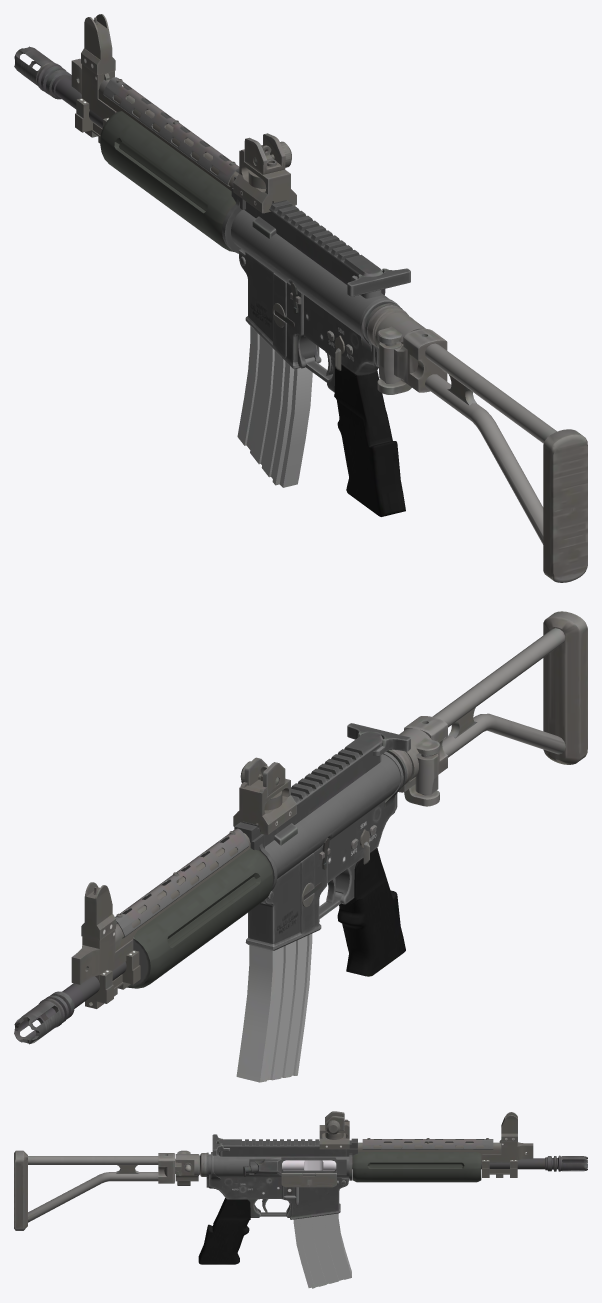
File: gun-lr300.glb
3 renders of one model, top to bottom at view 1: azimuth 30°, elevation 25°; view 2: azimuth 150°, elevation 25°; view 3: azimuth 270°, elevation 25°, orthographic. The views are drawn at different scales.
Visible parts, largest first — view 1: Stock_low, Magazine_low, Handguard_low, Grip_low, Lower_low, Stock_Tubes_low, Upper_low, Upper_Pickatiny_low, Heat_Shield_low, Handguard_Front_Sight_low, Stock_Mount_low, Barrel_low (+5 smaller); view 2: Magazine_low, Handguard_low, Stock_low, Lower_low, Grip_low, Upper_low, Stock_Tubes_low, Upper_Pickatiny_low, Handguard_Front_Sight_low, Heat_Shield_low, Barrel_low, Rear_Sights_low2 (+6 smaller); view 3: Handguard_low, Magazine_low, Lower_low, Stock_Tubes_low, Grip_low, Upper_low, Upper_Pickatiny_low, Stock_low, Heat_Shield_low, Handguard_Front_Sight_low, Barrel_low, Stock_Mount_low (+7 smaller).
Part boxes in pixels (x1,y1,x2,y2): Stock_low: (379,329,587,582); Magazine_low: (237,326,312,487); Handguard_low: (100,111,235,251); Grip_low: (334,364,405,516); Lower_low: (238,249,399,375); Stock_Tubes_low: (425,343,556,544); Upper_low: (231,210,388,335); Upper_Pickatiny_low: (222,176,382,298); Heat_Shield_low: (103,77,239,186); Handguard_Front_Sight_low: (71,14,116,118); Stock_Mount_low: (365,303,425,394); Barrel_low: (14,46,102,128); Magazine_low: (236,934,312,1082); Handguard_low: (127,848,273,988); Stock_low: (404,611,587,794); Lower_low: (245,751,403,950); Grip_low: (337,848,405,976); Upper_low: (264,754,400,878); Stock_Tubes_low: (432,628,565,757); Upper_Pickatiny_low: (234,731,383,890); Handguard_Front_Sight_low: (71,882,133,984); Heat_Shield_low: (115,828,249,938); Barrel_low: (14,962,126,1044); Rear_Sights_low2: (233,778,296,834); Handguard_low: (352,1152,481,1182); Magazine_low: (293,1213,351,1288); Lower_low: (208,1152,349,1219); Stock_Tubes_low: (28,1156,158,1222); Grip_low: (198,1198,250,1264); Upper_low: (208,1153,349,1177); Upper_Pickatiny_low: (217,1138,357,1180); Stock_low: (14,1150,181,1230); Heat_Shield_low: (362,1139,493,1149); Handguard_Front_Sight_low: (482,1112,533,1162); Barrel_low: (352,1155,587,1171); Stock_Mount_low: (175,1150,208,1187).
Size of the model in its own units: 0.0724 by 0.3491 by 1.05.
2 materials, 2 textured.
